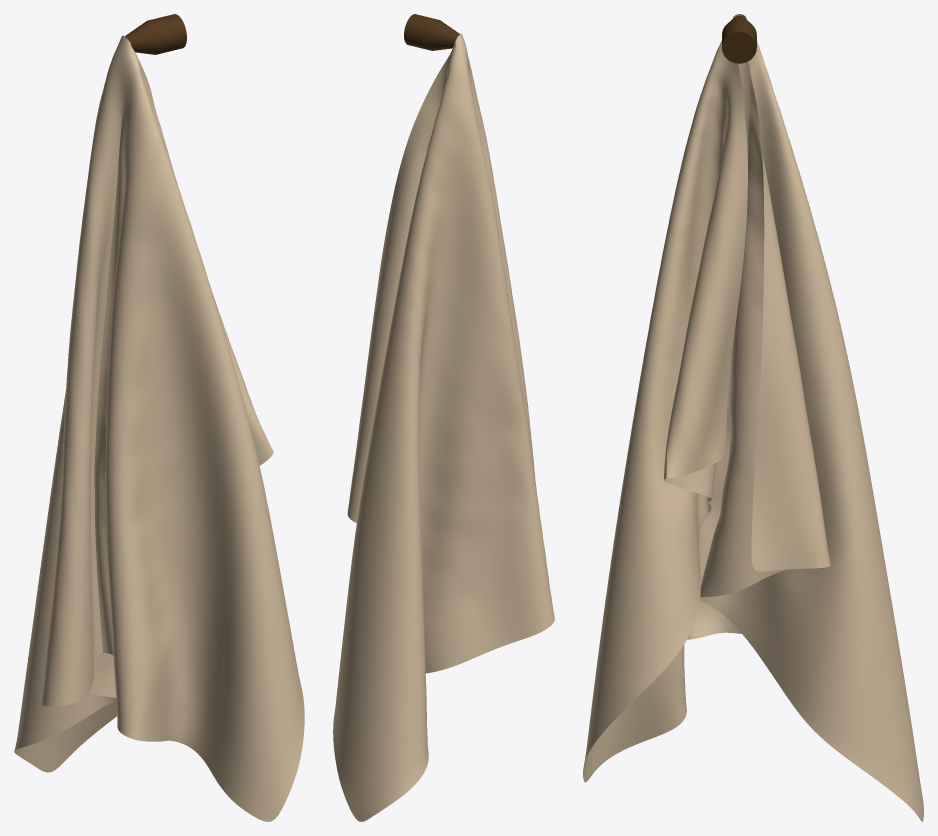
Rendered from hangingtowel.fbx.
3 views of the same model, side by side, from view 1: azimuth 30°, elevation 25°; view 2: azimuth 150°, elevation 25°; view 3: azimuth 270°, elevation 25° (orthographic). The views are drawn at different scales.
Parts seen in each view (by area): view 1: Cylinder; view 2: Cylinder; view 3: Cylinder.
Part boxes in pixels (left/top/right/bottom): Cylinder: left=14, top=14, right=304, bottom=821; Cylinder: left=333, top=14, right=554, bottom=821; Cylinder: left=583, top=14, right=923, bottom=821.
Size of the model in its own units: 71.12 by 259 by 99.41.
